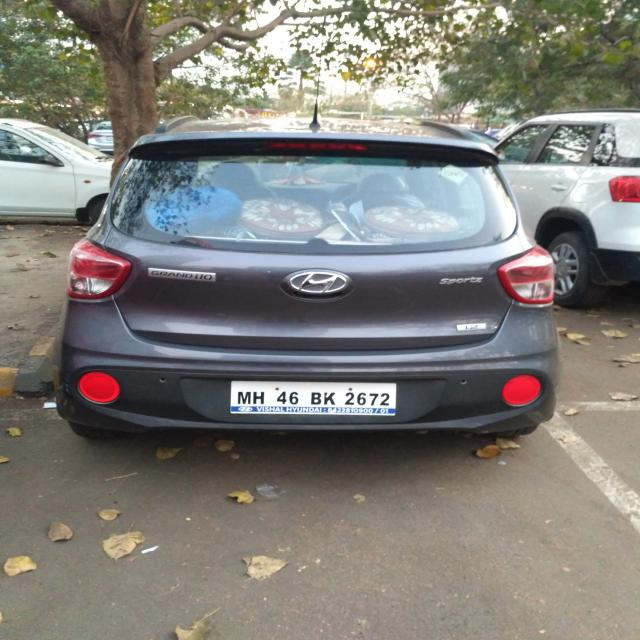Number-Plate: (234, 382, 396, 416)
